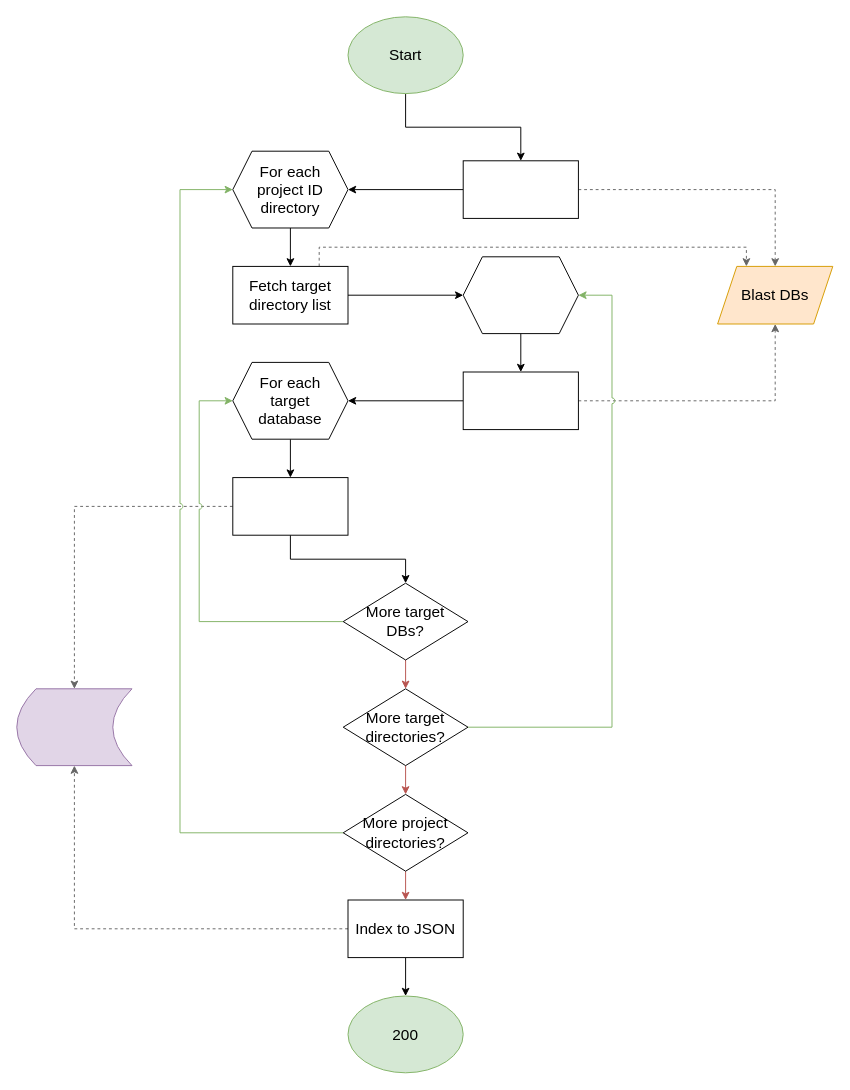
Image size: 850x1090. Some labels were removed from this diagram. The box of each missing label's shape, as (x1, y1, x2, y2) in pixels:
Blast target index map: (16, 688, 132, 766)
Fetch project ID directory list: (462, 160, 578, 218)
Fetch target DB list: (462, 371, 578, 430)
For each target directory: (462, 256, 578, 334)
Record blast target: (232, 477, 348, 535)
